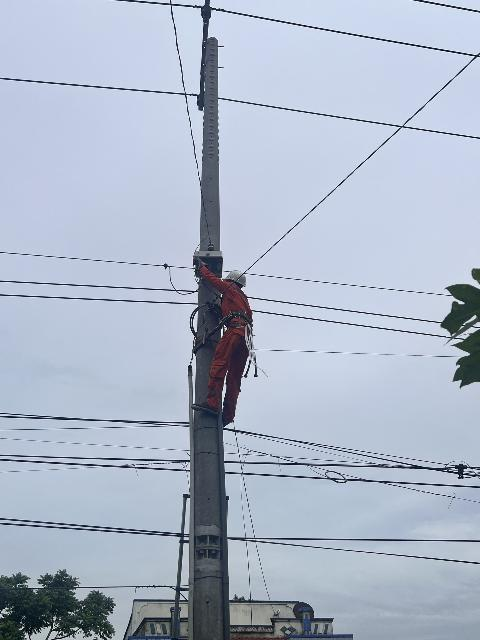gloves: (189, 254, 210, 273)
harness: (226, 308, 257, 326)
helmet: (220, 266, 250, 289)
shoes: (190, 398, 225, 416), (218, 414, 240, 426)
